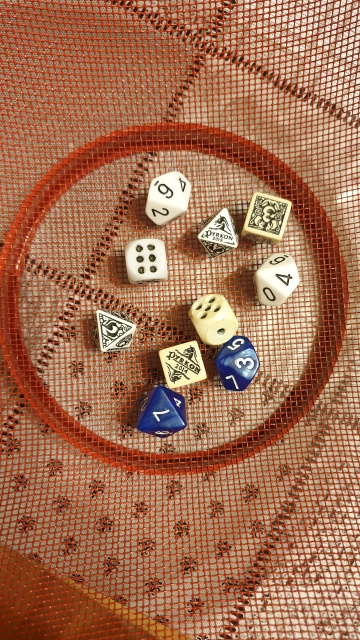d10-3: (213, 336, 263, 397)
d10-4: (250, 250, 300, 308)
d10-6: (142, 169, 194, 227)
d10-7: (129, 385, 194, 443)
d6-6: (122, 237, 169, 283)
d6p-1: (157, 342, 210, 390)
d6p-3: (238, 189, 289, 240)
d8p-1: (196, 208, 242, 258)
d8p-2: (93, 304, 139, 356)
